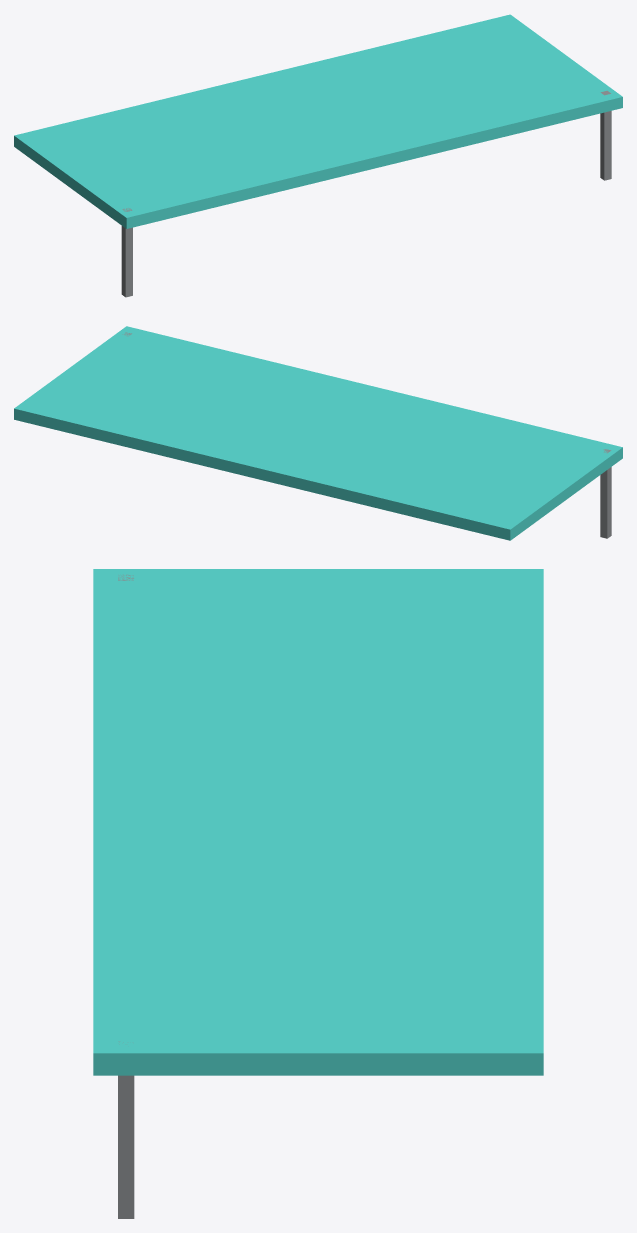
The model's file is b-awning.glb.
The picture shows the model from 3 angles, top to bottom: view 1: azimuth 30°, elevation 25°; view 2: azimuth 150°, elevation 25°; view 3: azimuth 270°, elevation 25°; orthographic projection. The views are drawn at different scales.
Visible parts, largest first — view 1: b-awning; view 2: b-awning; view 3: b-awning.
Boxes of the visible parts, x1,y1,x2,y2 form: b-awning: [14, 14, 622, 297]; b-awning: [14, 326, 622, 540]; b-awning: [93, 569, 543, 1218].
Bounding box in the file's own units: 2.8 × 0.46 × 1.1.
